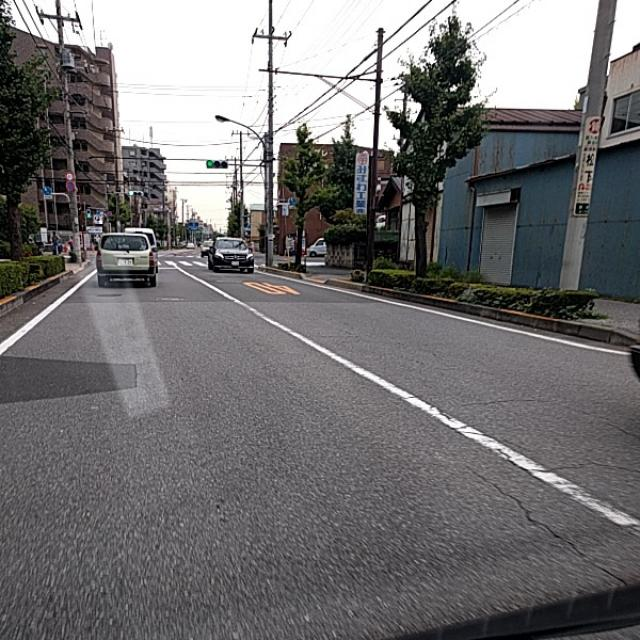pothole: (405, 385, 592, 548)
